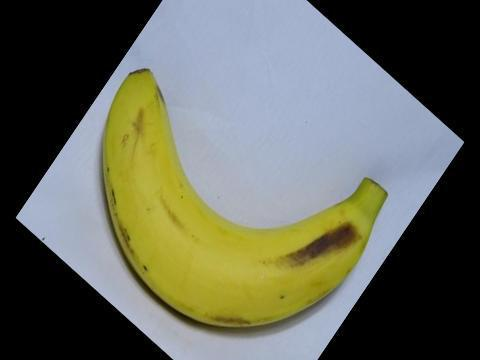freshripe: (90, 53, 393, 337)
